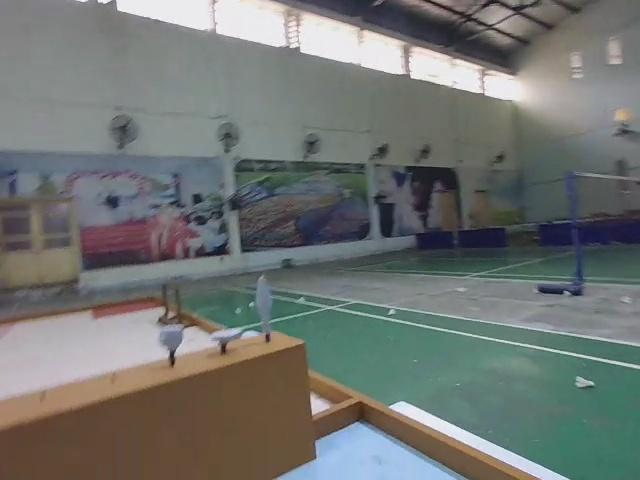Fist: (157, 325, 183, 365)
Hand: (210, 326, 240, 355)
Sph: (256, 276, 277, 346)
